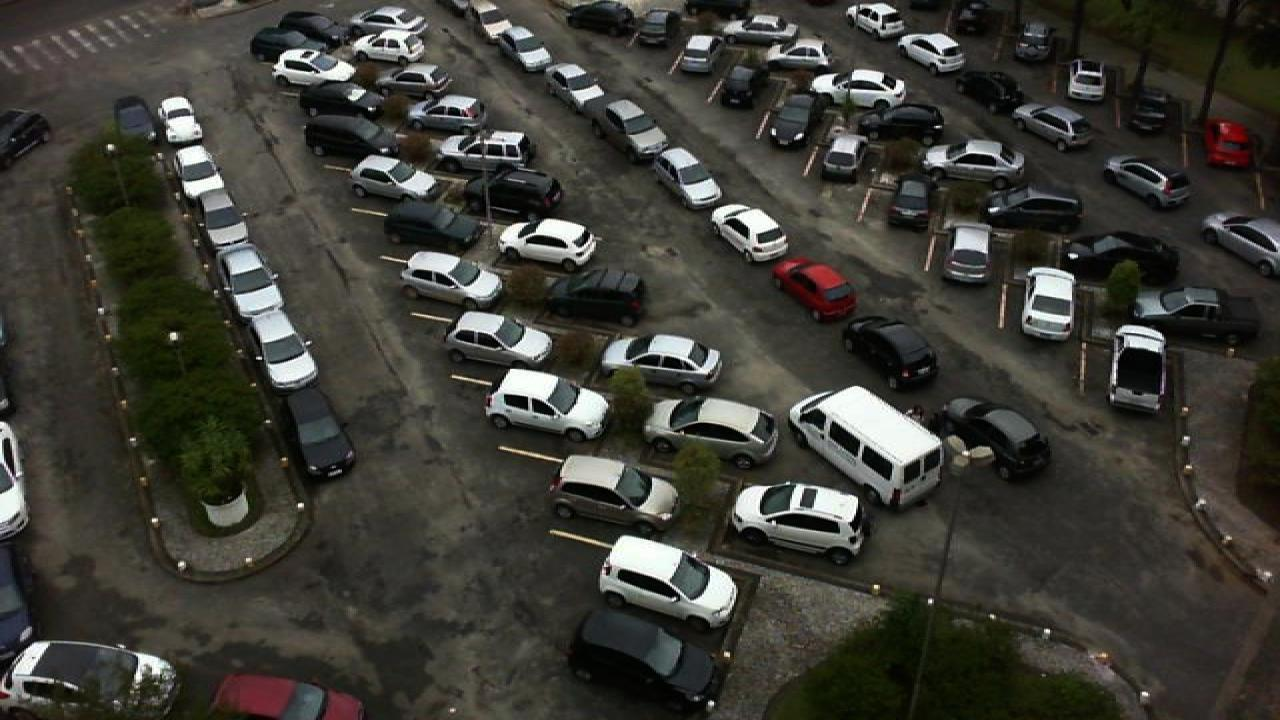Car: (564, 606, 730, 716), (0, 637, 180, 720), (598, 532, 742, 634), (728, 478, 876, 568), (550, 452, 684, 536), (640, 391, 780, 470), (938, 395, 1056, 483), (484, 370, 612, 442), (598, 331, 726, 398), (1128, 286, 1264, 343), (840, 314, 940, 390), (210, 673, 368, 720), (444, 308, 558, 370), (1060, 229, 1182, 286), (282, 387, 358, 478), (544, 268, 652, 330), (248, 307, 322, 392), (1106, 324, 1172, 417), (402, 249, 504, 307), (772, 256, 858, 323), (496, 217, 598, 273), (1200, 210, 1280, 278), (1100, 154, 1196, 210), (708, 202, 792, 266), (380, 201, 482, 252), (468, 170, 564, 224), (650, 146, 728, 212), (922, 138, 1028, 185), (1018, 267, 1082, 342), (222, 244, 288, 316), (984, 184, 1086, 230), (346, 153, 438, 203), (810, 68, 910, 114), (1012, 102, 1098, 154), (302, 112, 394, 160), (600, 98, 674, 157), (440, 128, 538, 172), (852, 100, 950, 142), (270, 47, 360, 89), (942, 223, 998, 289), (198, 196, 260, 254), (764, 89, 824, 148), (174, 143, 234, 202), (894, 30, 968, 74), (882, 174, 938, 230), (956, 68, 1026, 112), (544, 61, 608, 109), (414, 93, 488, 134), (492, 26, 556, 73), (0, 107, 54, 162), (348, 30, 430, 66), (1126, 83, 1180, 136), (1204, 116, 1256, 170), (764, 35, 838, 71), (352, 3, 430, 37), (246, 29, 326, 62), (816, 133, 868, 183), (110, 94, 162, 144), (564, 0, 636, 35), (714, 64, 766, 112), (160, 94, 208, 146), (280, 9, 350, 44), (844, 1, 908, 39), (310, 84, 380, 118), (380, 63, 450, 96), (1064, 57, 1112, 105), (672, 31, 722, 74), (462, 0, 516, 39), (1012, 19, 1058, 62), (636, 7, 682, 45), (948, 0, 990, 37)
